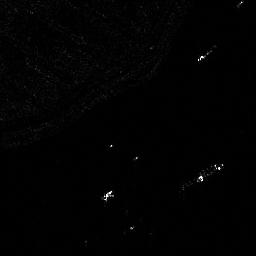ship: (195, 161, 225, 183)
